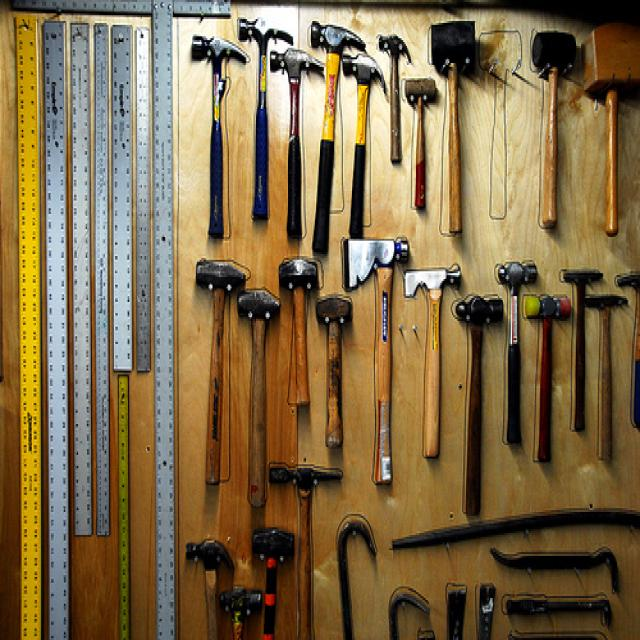hammer: (178, 16, 244, 249), (228, 10, 286, 230), (340, 38, 391, 242), (304, 12, 354, 210), (494, 250, 540, 458), (266, 36, 317, 222), (457, 281, 503, 487), (182, 528, 237, 640), (377, 24, 420, 163)
